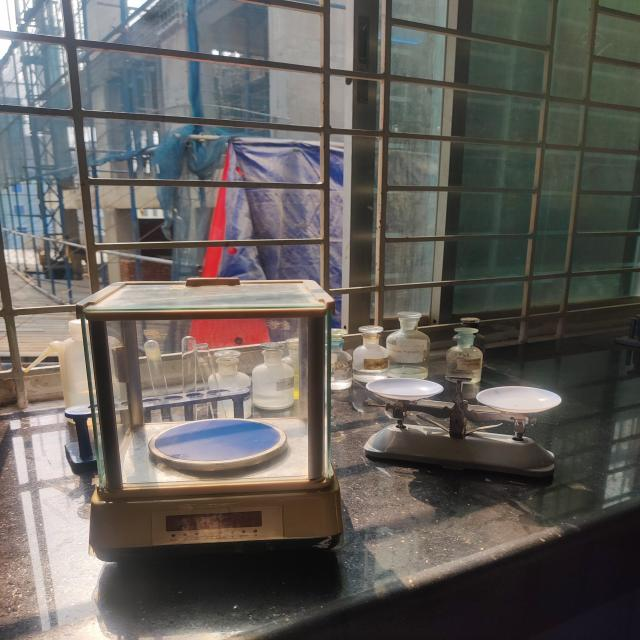Mechanical_Balance_Scale: (350, 362, 579, 490)
Precision_Weight_Scale: (43, 266, 366, 590)
